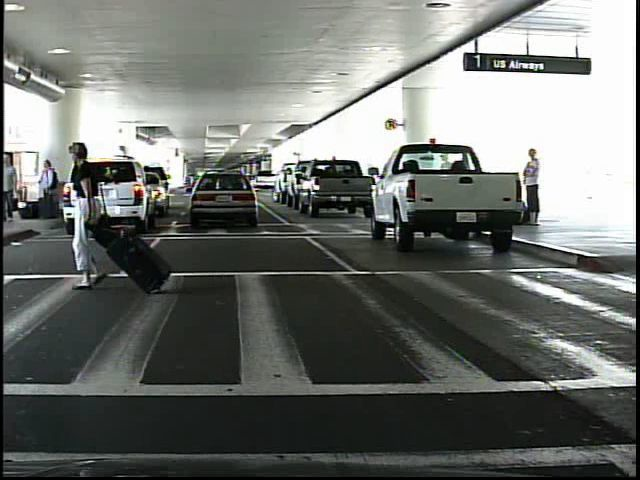person: (57, 143, 128, 292), (508, 151, 547, 227), (37, 158, 58, 221)
